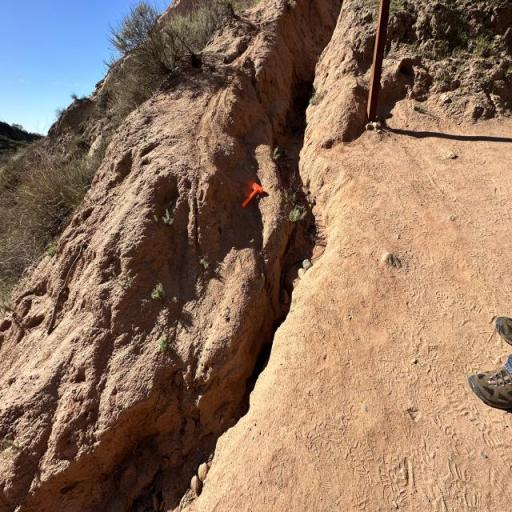mallet: (241, 183, 263, 208)
